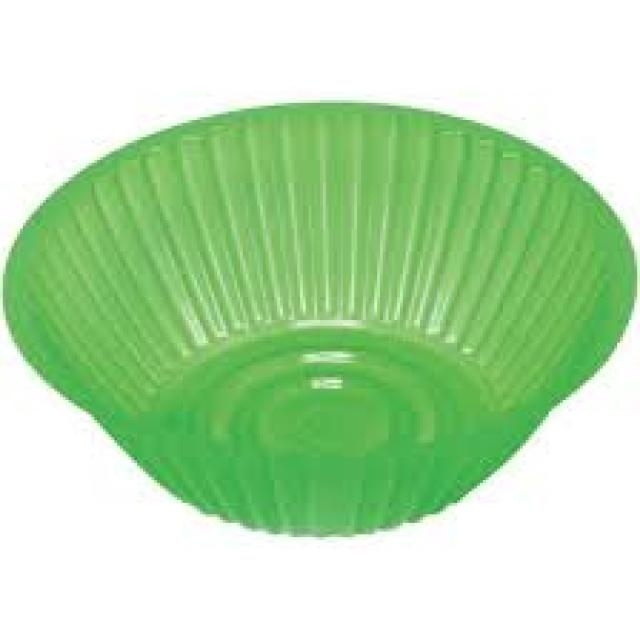glass: (0, 97, 637, 534)
